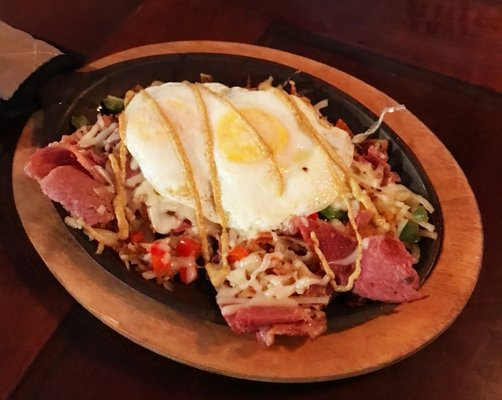curry: (7, 2, 501, 386)
